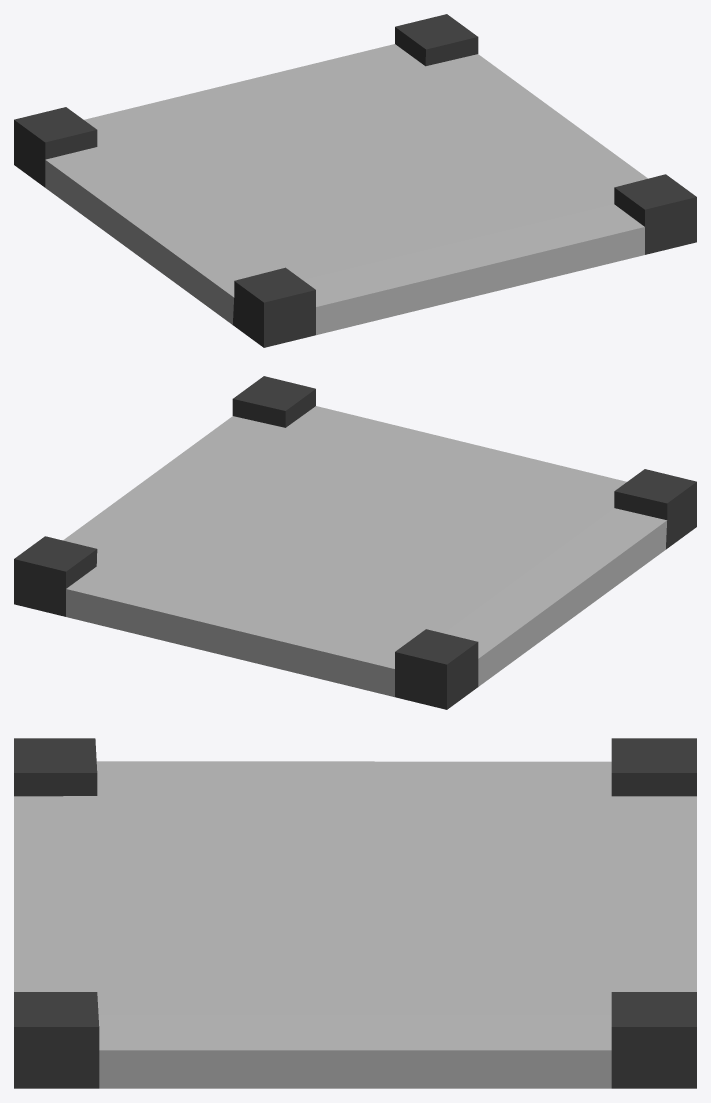
The model's file is black_connect(2).fbx.
3 views of the same model, one above another, from view 1: azimuth 30°, elevation 25°; view 2: azimuth 150°, elevation 25°; view 3: azimuth 270°, elevation 25° (orthographic). The views are drawn at different scales.
Parts seen in each view (by area): view 1: black_connect; view 2: black_connect; view 3: black_connect.
Boxes of the visible parts, x1,y1,x2,y2 form: black_connect: (14, 14, 696, 347); black_connect: (14, 376, 696, 709); black_connect: (14, 738, 696, 1088).
Size of the model in its own units: 1 by 0.1 by 1.
1 material, 1 textured.
